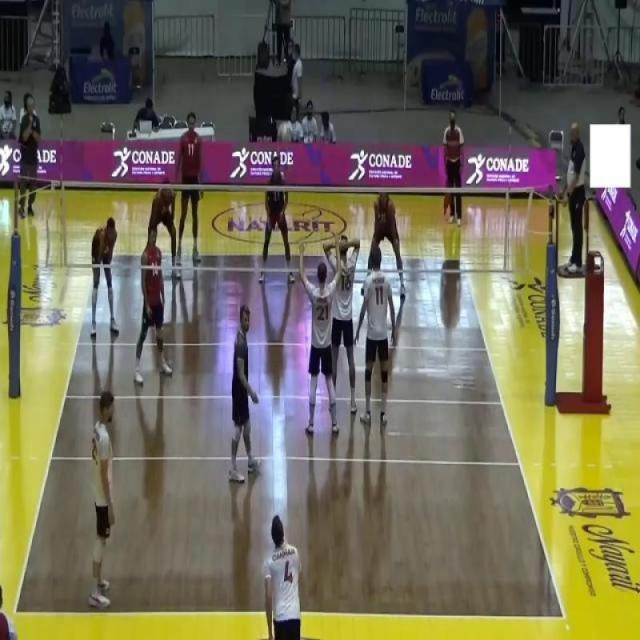volleyball: (277, 120, 289, 146)
